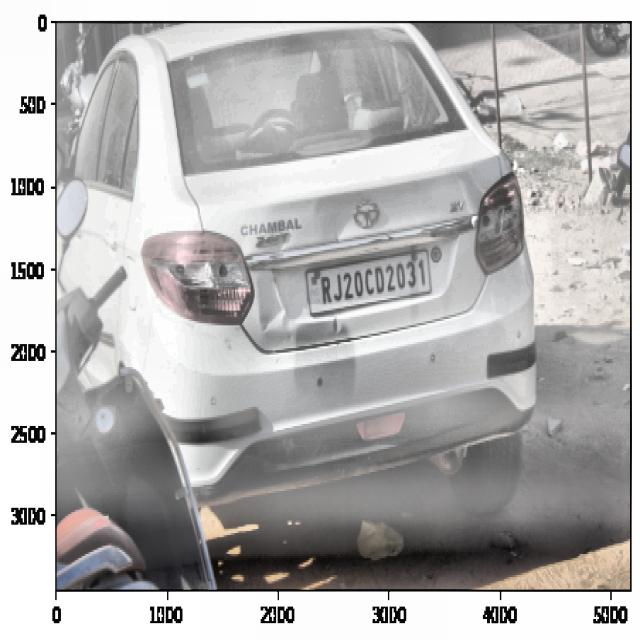license_plate: (318, 257, 432, 306)
